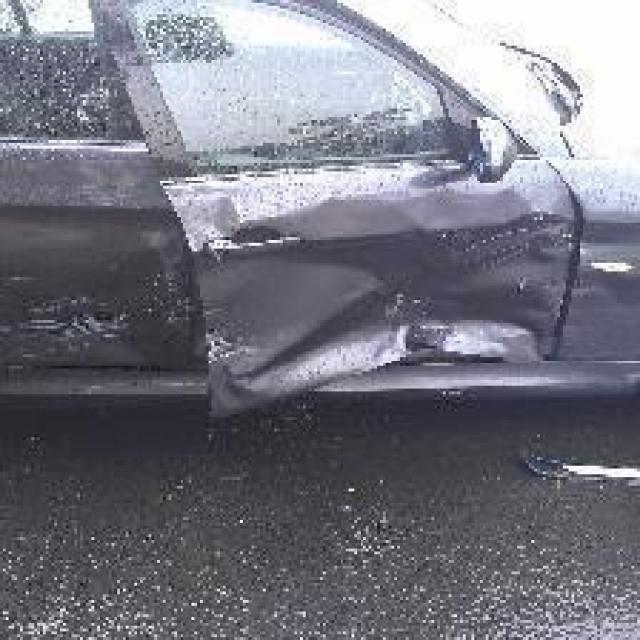damaged: (177, 166, 634, 403)
